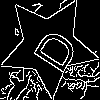D: (24, 21, 81, 76)
